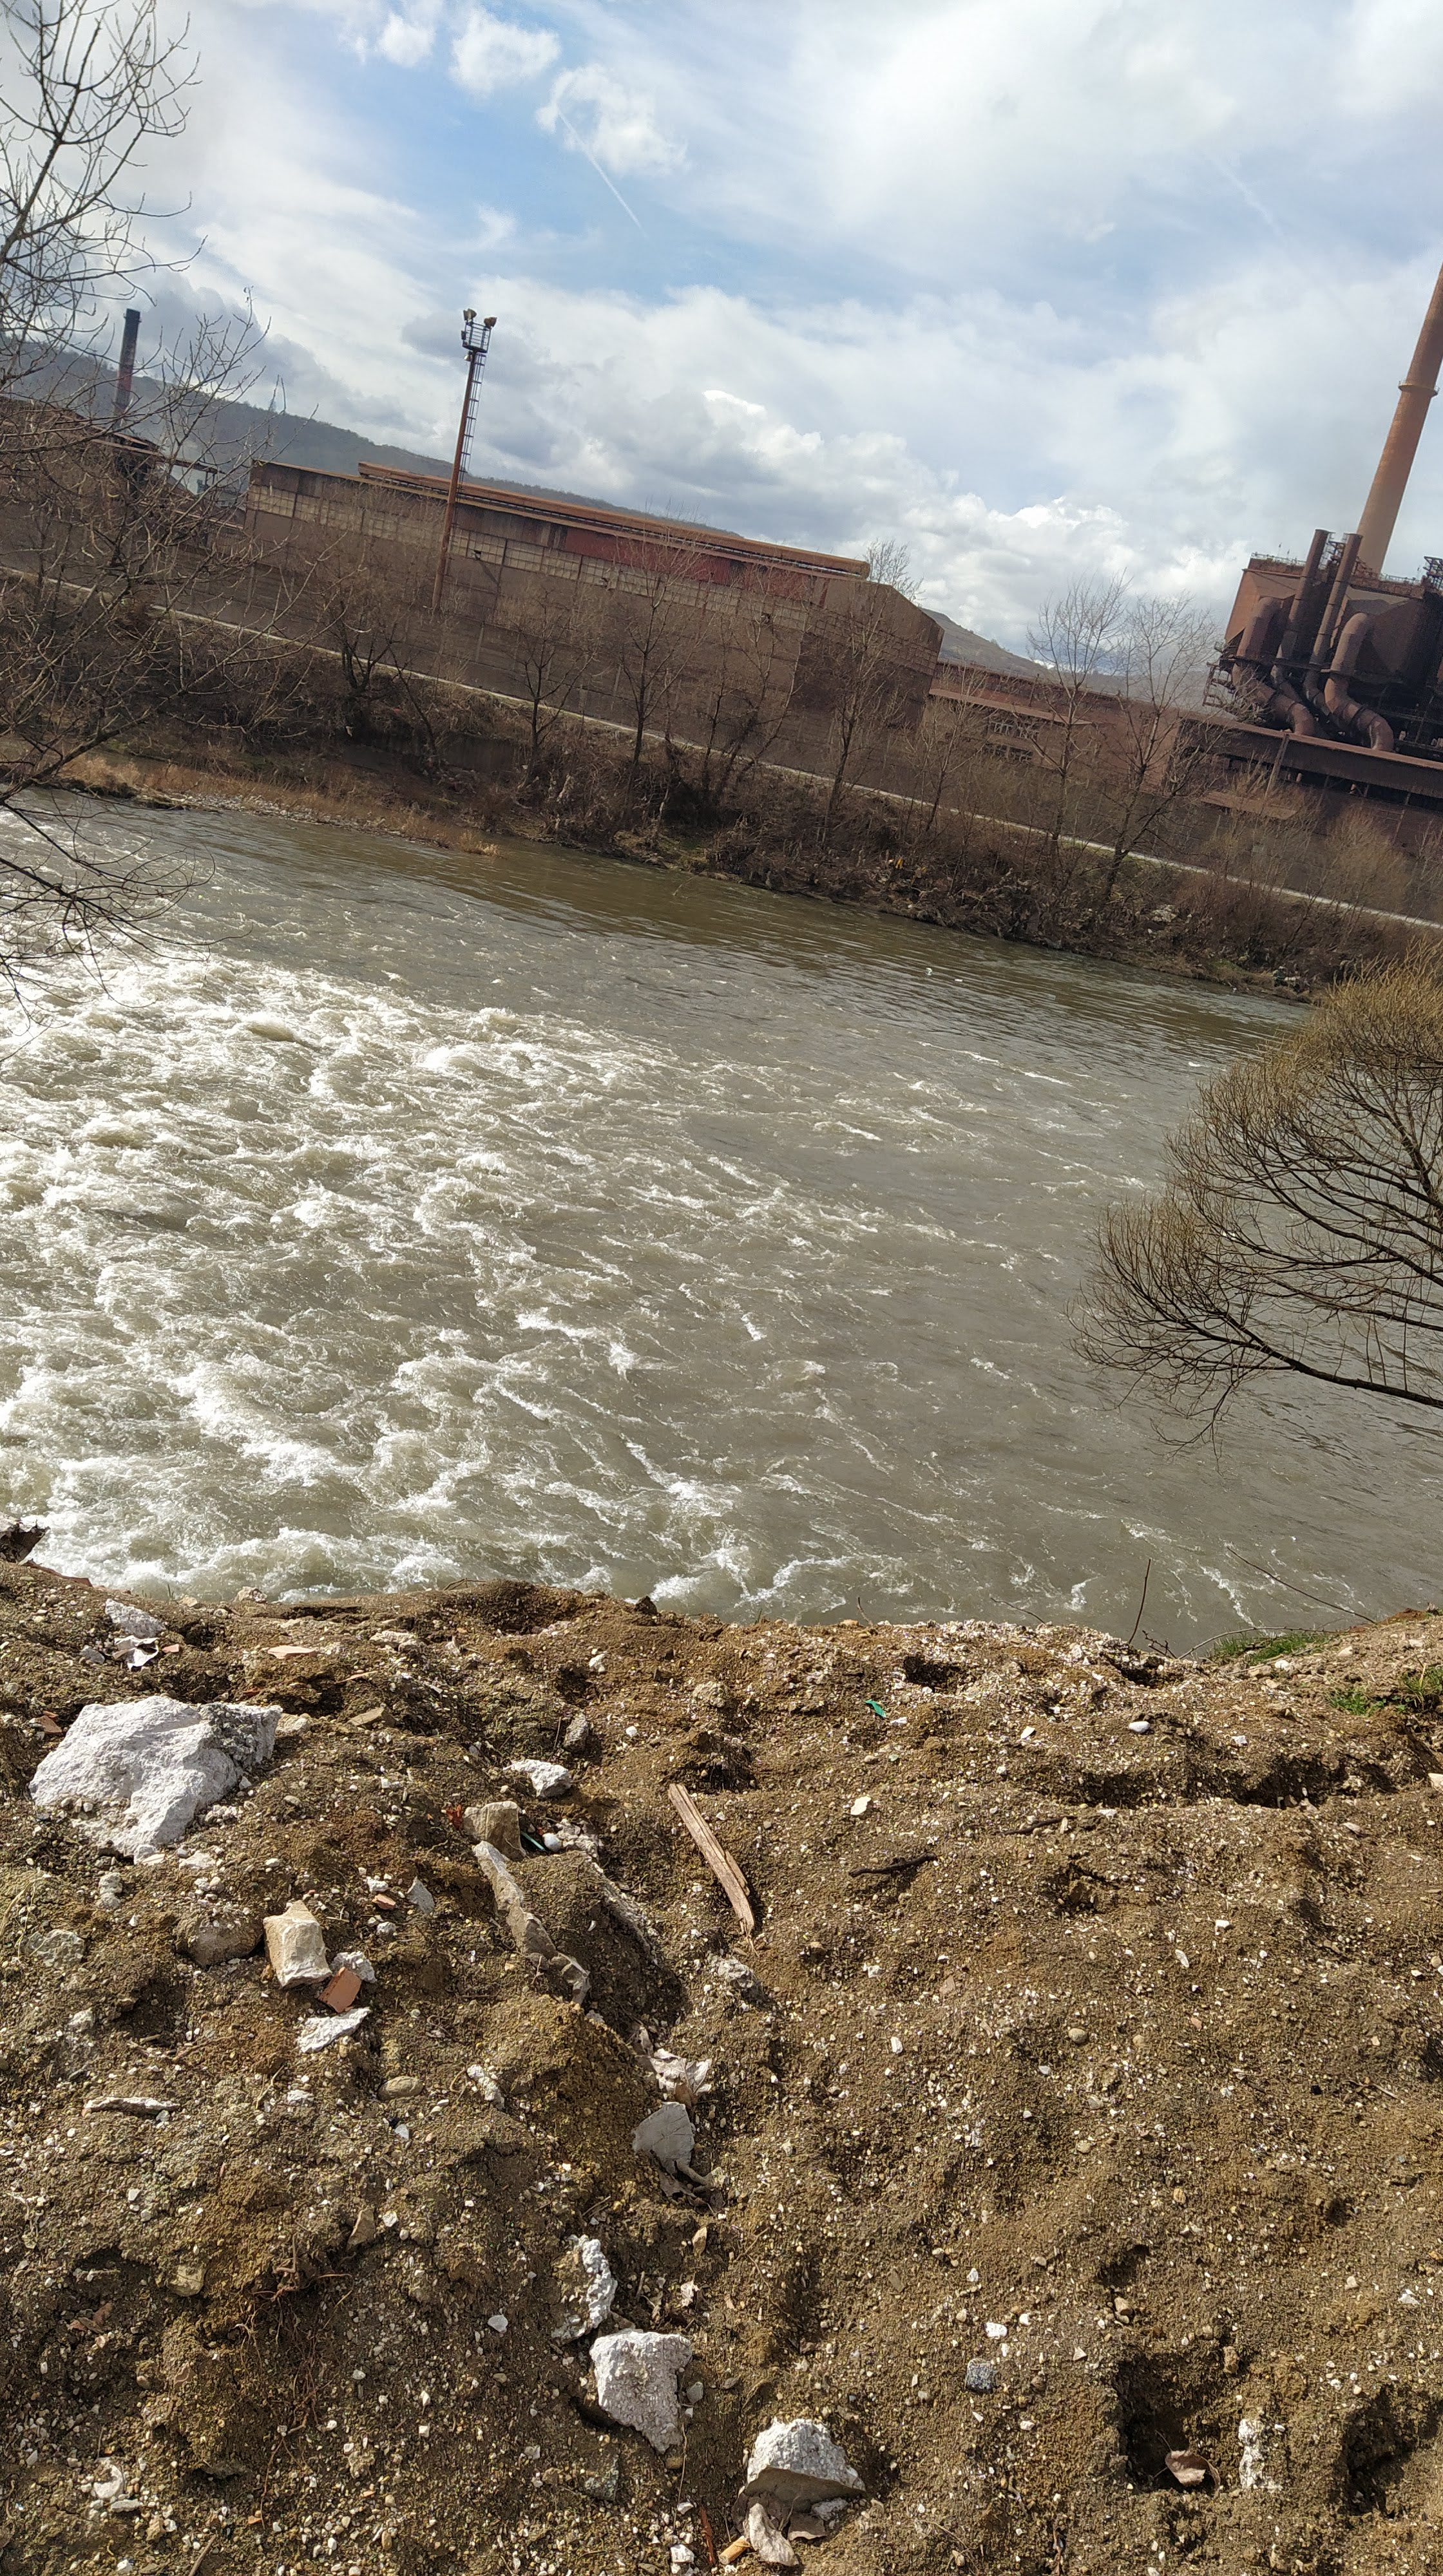Plastic Bottle: (926, 968, 931, 973), (954, 978, 961, 982)
